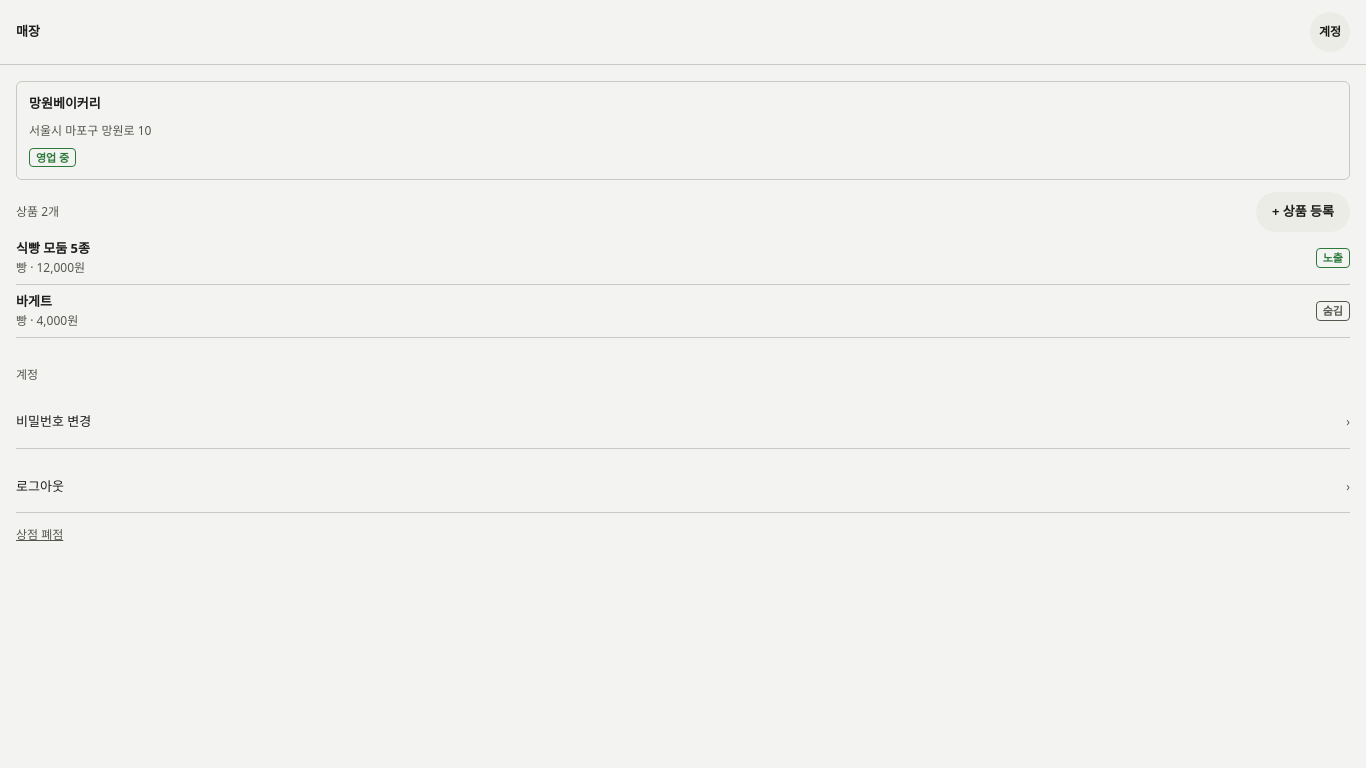
Scenario: pages/owner-store OwnerStorePage › 「로그아웃」 버튼을 누르면 로그아웃 확인 시트가 열린다
Expected: the text "상품 2개" is shown, [16,203,59,220]
Click the button "로그아웃 ›" at (40, 486), box [16,461,1350,513]
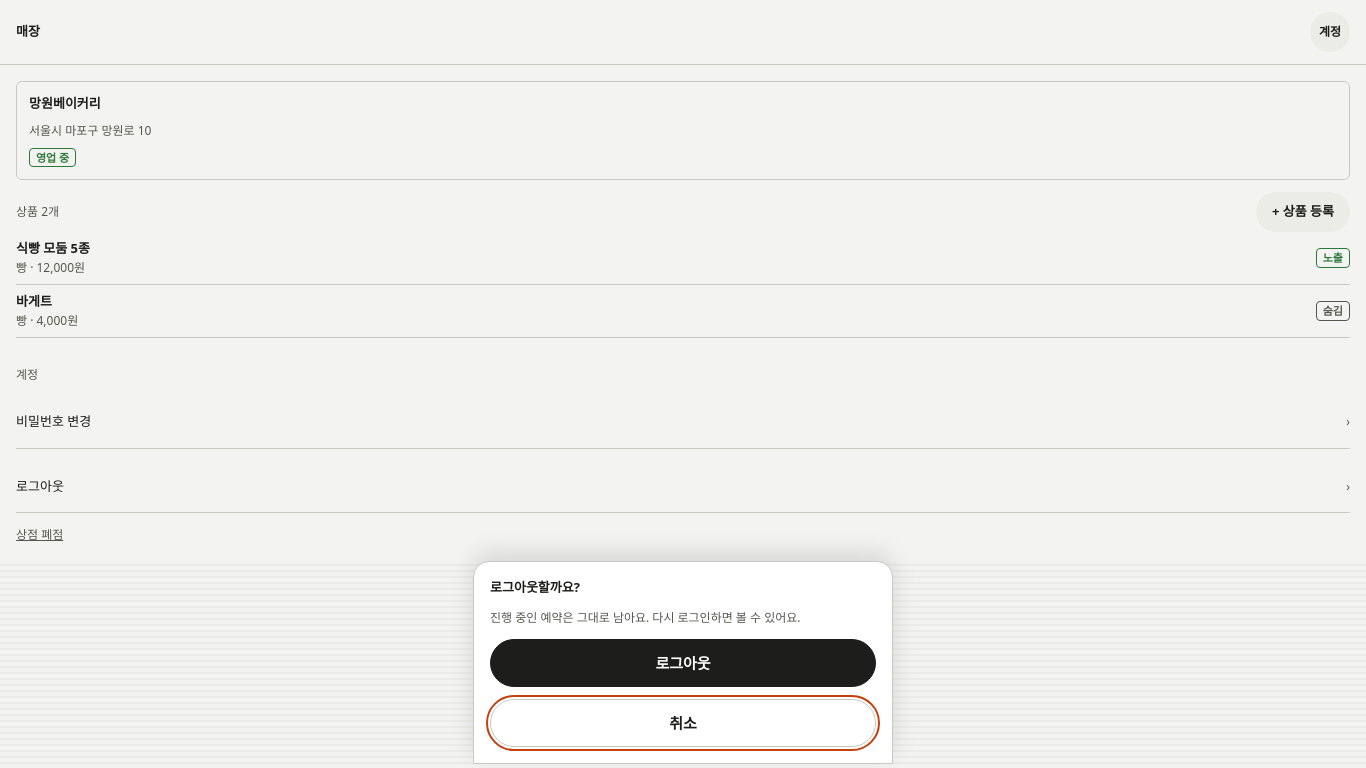
Expected: the dialog is shown, [473,560,893,764]
